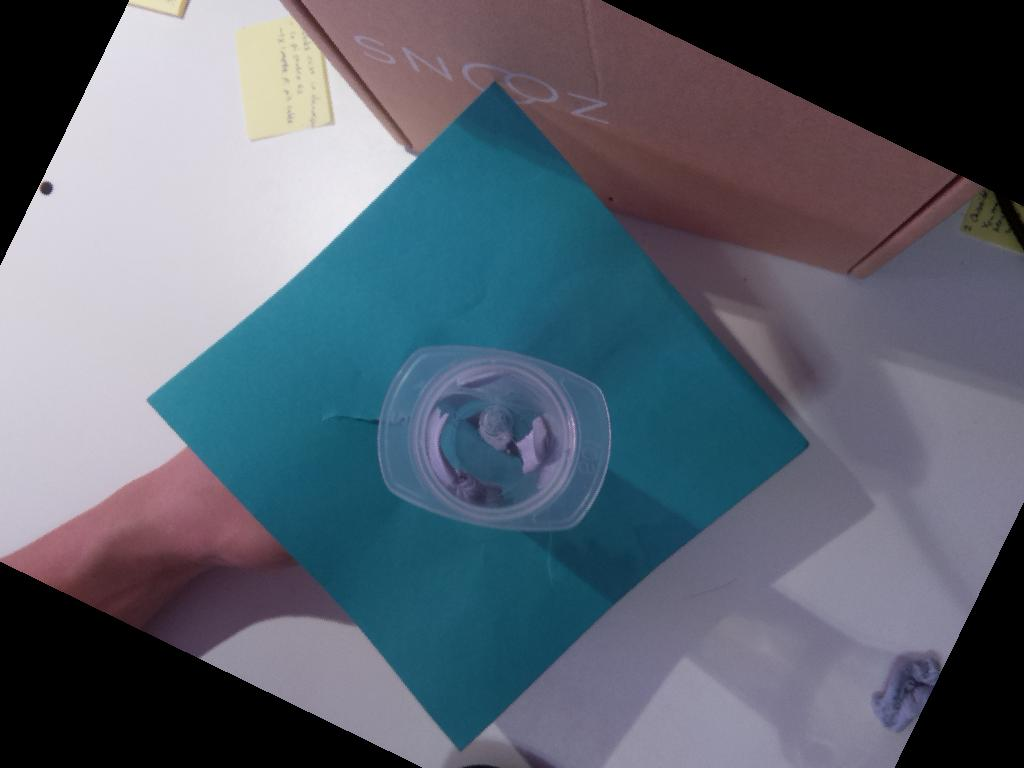dirty: (375, 345, 612, 530)
